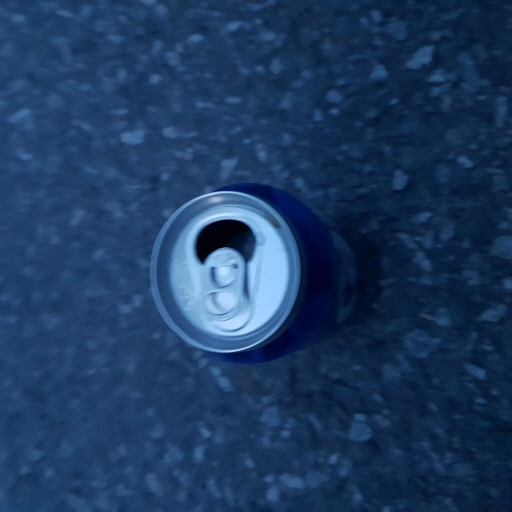Metal_0: (147, 179, 372, 363)
